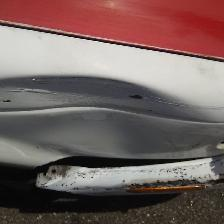bumper_dent: (10, 40, 219, 208)
